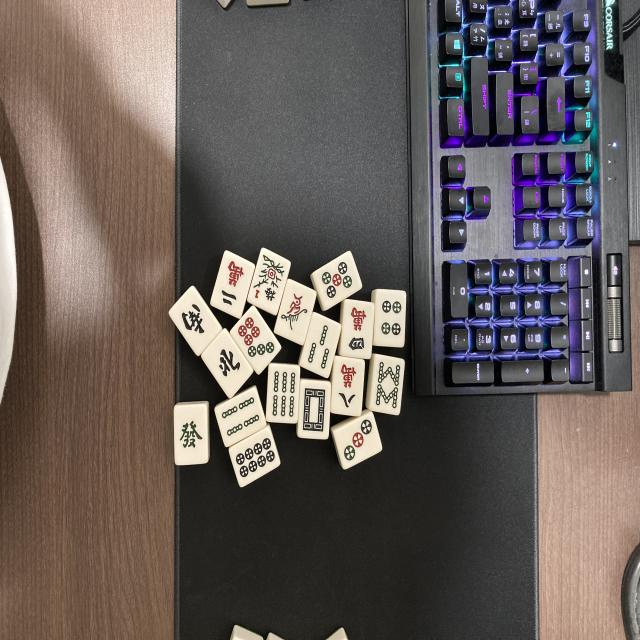bai: (299, 383, 330, 440)
f1: (248, 250, 290, 312)
fa: (174, 405, 208, 466)
m2: (210, 253, 253, 318)
m4: (340, 300, 376, 359)
m8: (333, 359, 366, 417)
north: (200, 331, 253, 396)
s1: (274, 282, 316, 344)
s3: (302, 315, 341, 378)
s4: (216, 389, 266, 446)
s6: (267, 366, 300, 424)
s8: (371, 357, 405, 415)
south: (170, 287, 222, 357)
t3: (333, 415, 382, 471)
t4: (374, 290, 407, 347)
t5: (312, 251, 362, 309)
t7: (230, 308, 281, 374)
t8: (230, 428, 281, 488)
